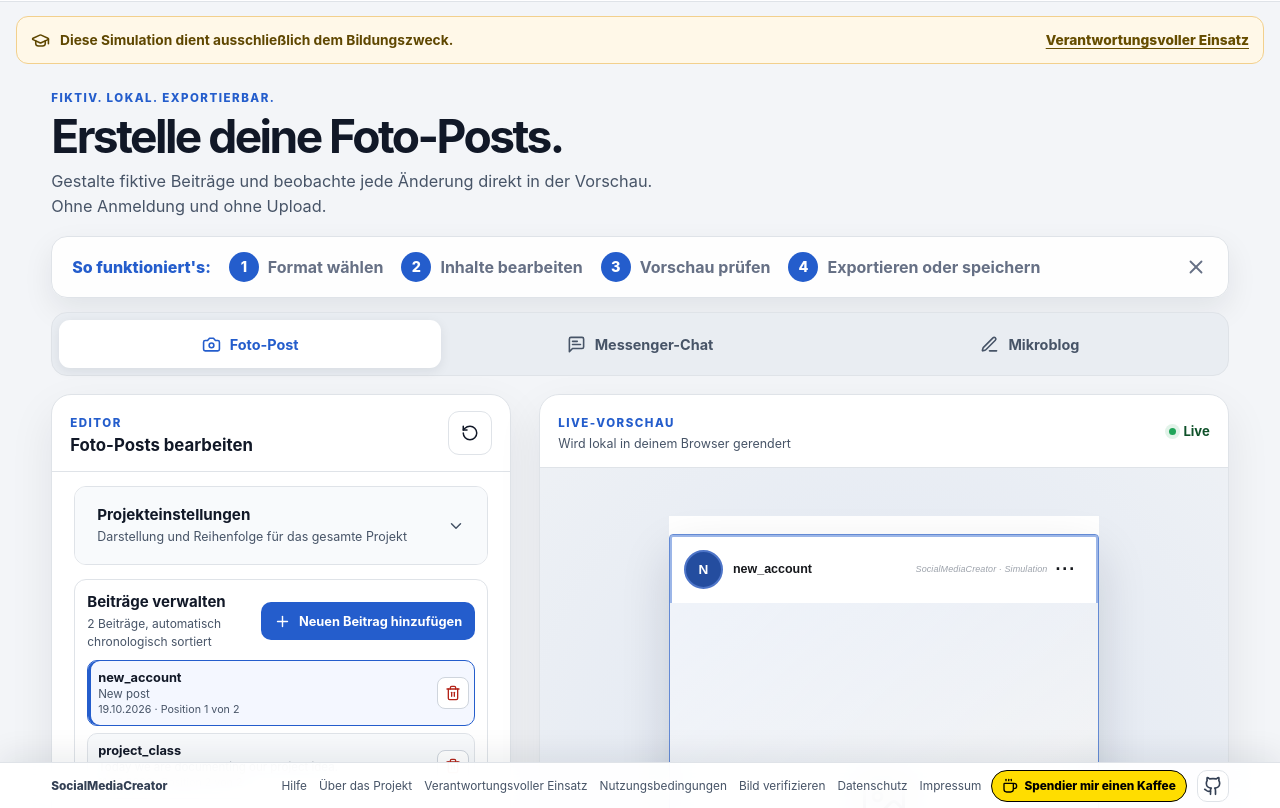
Scenario: App › activates a new post and focuses its author field
Click the button "Neuen Beitrag hinzufügen".
click(368, 621)  # box [261,602,475,640]
(page scrolled)
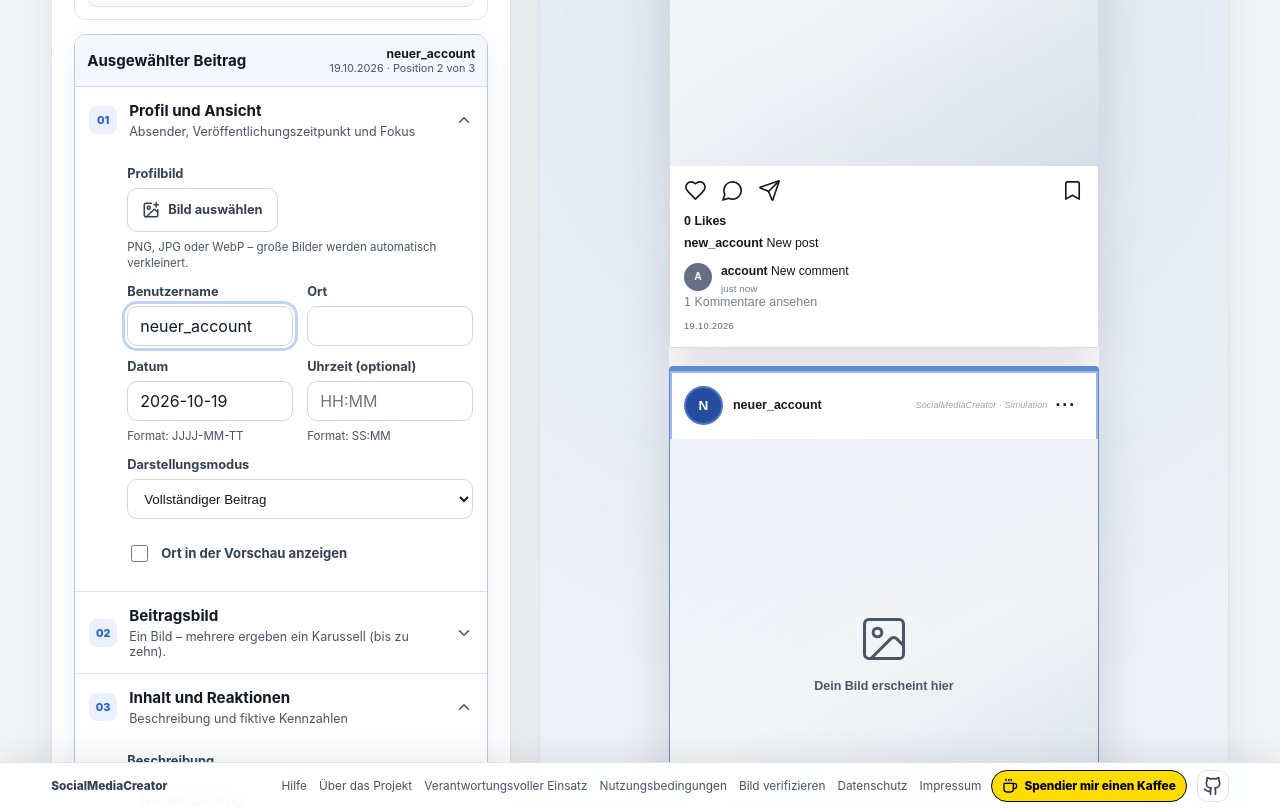
Now the field labelled "Benutzername" holds "neuer_account", box [127,306,293,346]
